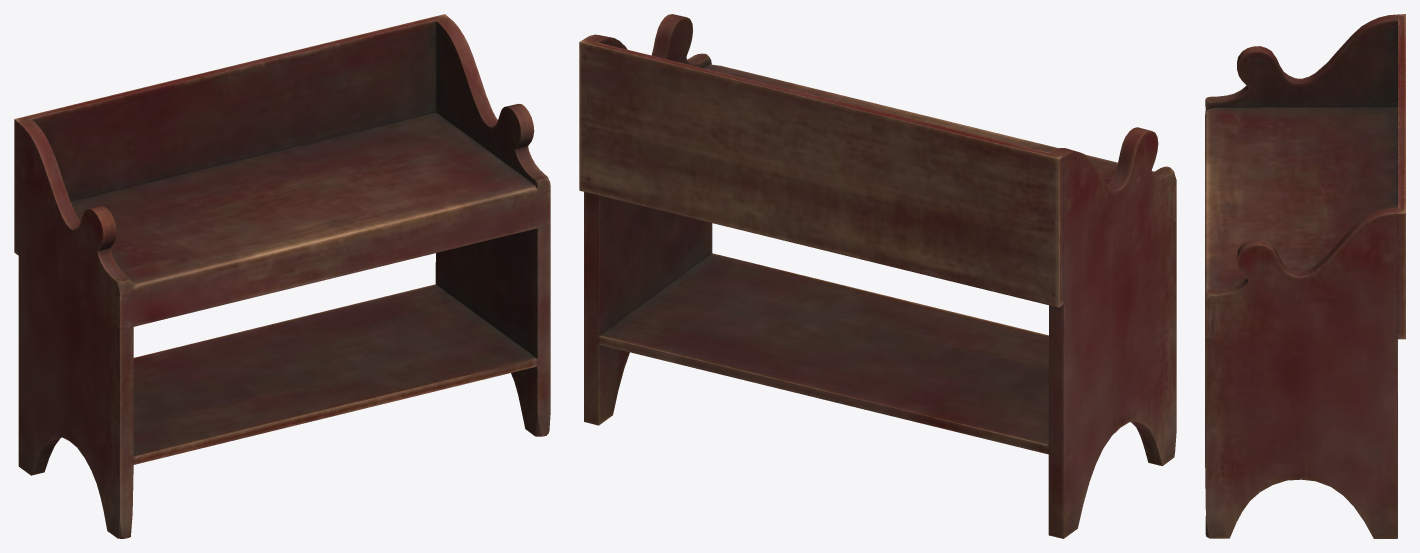
File: tuinbank_hout.gltf
3 views of the same model, side by side, from view 1: azimuth 30°, elevation 25°; view 2: azimuth 150°, elevation 25°; view 3: azimuth 270°, elevation 25° (orthographic). The views are drawn at different scales.
Parts seen in each view (by area): view 1: painted_wooden_bench; view 2: painted_wooden_bench; view 3: painted_wooden_bench.
Part boxes in pixels (x1=…): painted_wooden_bench: x1=14, y1=14, x2=550, y2=538; painted_wooden_bench: x1=579, y1=14, x2=1176, y2=538; painted_wooden_bench: x1=1205, y1=14, x2=1405, y2=538.
Bounding box in the file's own units: 1.16 × 0.8893 × 0.4965.
Materials: 1 (1 with a texture image).
